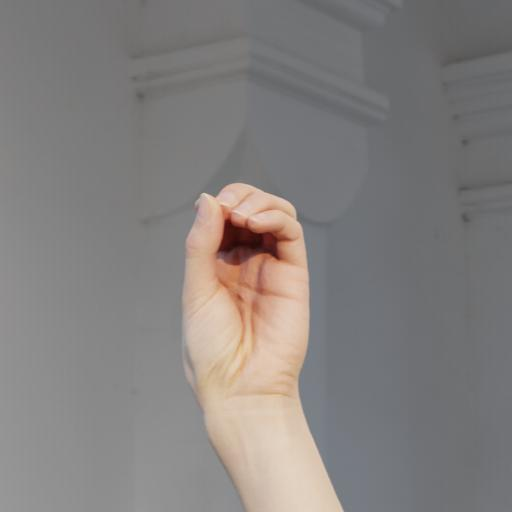O: (157, 172, 349, 512)
